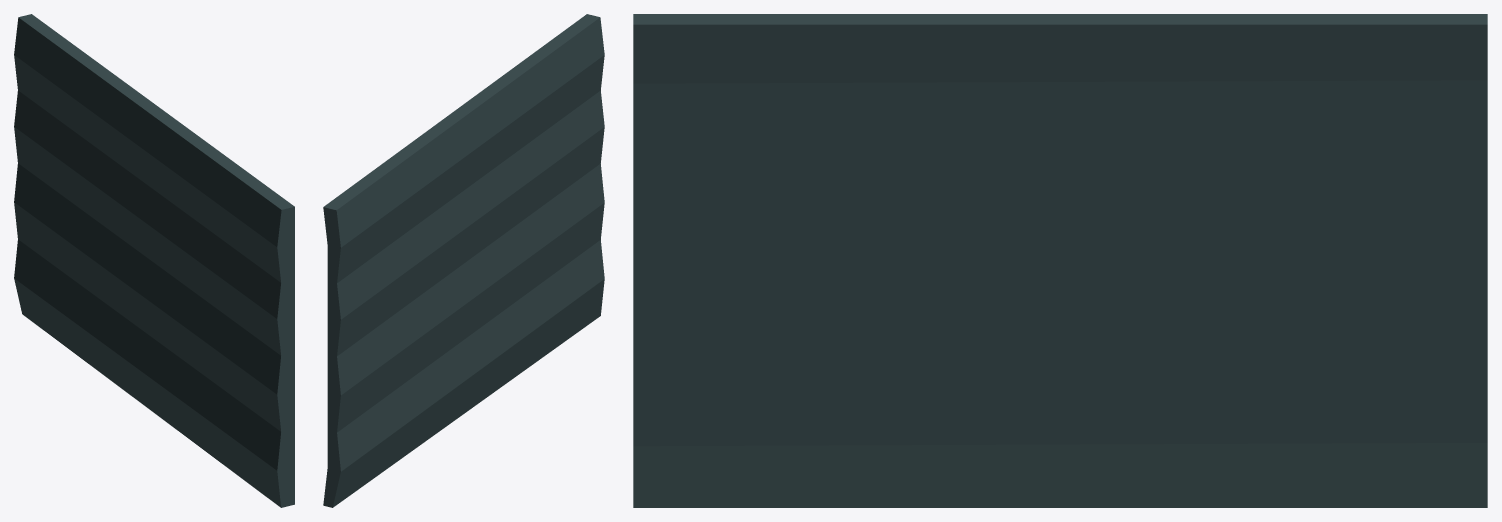
File: gates3.glb
The picture shows the model from 3 angles, left to right: view 1: azimuth 30°, elevation 25°; view 2: azimuth 150°, elevation 25°; view 3: azimuth 270°, elevation 25°; orthographic projection. The views are drawn at different scales.
Parts seen in each view (by area): view 1: Gates; view 2: Gates; view 3: Gates.
Boxes of the visible parts, x1,y1,x2,y2 form: Gates: (14, 14, 294, 507); Gates: (323, 14, 604, 507); Gates: (633, 14, 1487, 507).
Bounding box in the file's own units: 0.2302 × 3.71 × 5.95.
